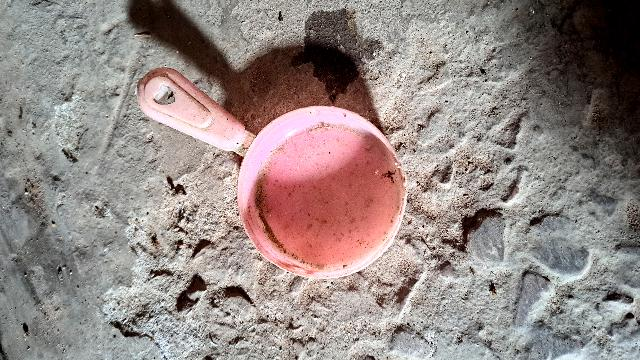hardplastic: (209, 86, 437, 312), (118, 47, 266, 168)
